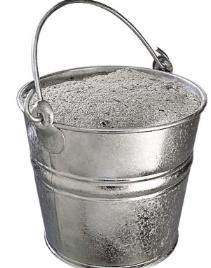SEAU: (16, 0, 211, 268)
